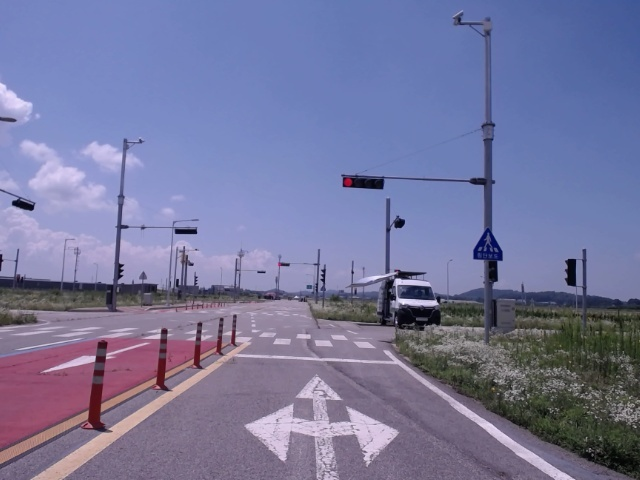red_4: (343, 176, 385, 189)
